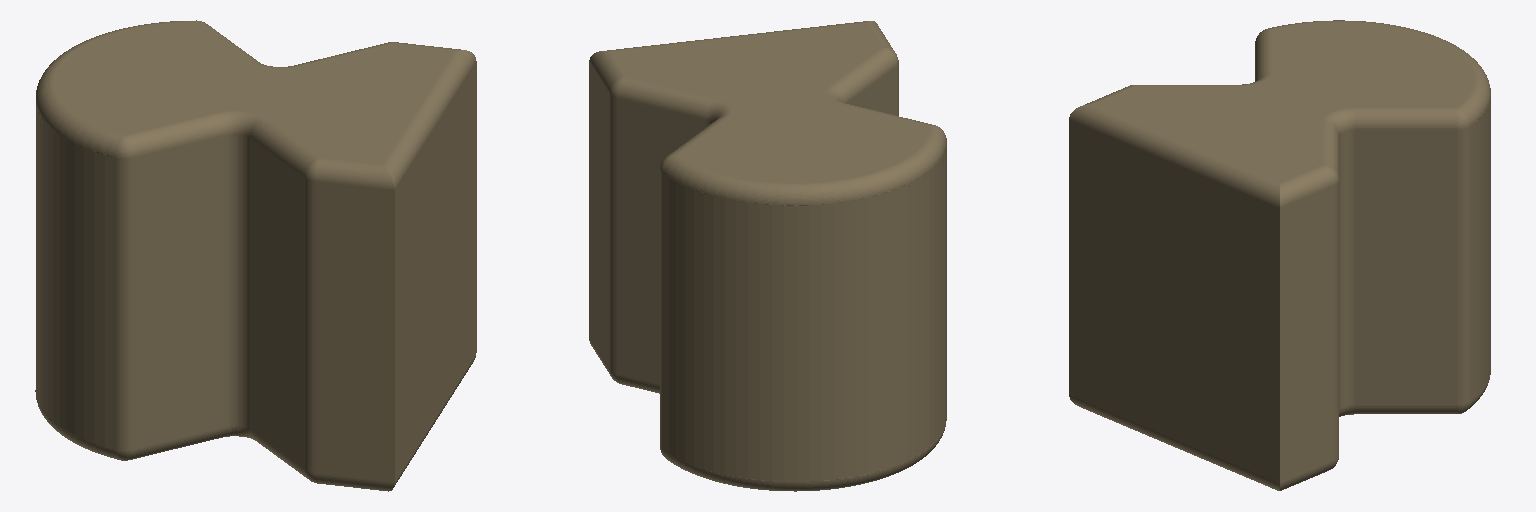
URDF robot description (cross_round_Top):
<?xml version="1.0"?>
<robot name="cross_round_Top">
  <link name="base_link">
    <visual>
      <origin xyz="0 0 0" rpy="0 0 0" />
      <geometry>
        <mesh filename="cross_round_Top.obj"/>      
      </geometry>
      <material name="tan">
        <color rgba="0.55 0.5 0.4 1"/>
      </material>
    </visual>
    <collision>
      <origin xyz="0 0 0" rpy="0 0 0" />
      <geometry>
        <mesh filename="cross_round_Top.obj"/>
      </geometry>
    </collision>
  </link>
</robot>

--- What the picture shows (computed from the rendered views, not written in the file) ---
3 views of the same robot in one strip: view 1: azimuth 30°, elevation 25°; view 2: azimuth 150°, elevation 25°; view 3: azimuth 270°, elevation 25° (orthographic).
Robot: cross_round_Top — 1 links, 0 joints (none); root link base_link; default pose: all joints at 0.
Visible links, largest first — view 1: base_link; view 2: base_link; view 3: base_link.
Link boxes in pixels (<box>): base_link: <box>35,20,476,491</box>; base_link: <box>589,21,946,491</box>; base_link: <box>1069,20,1490,490</box>.
Size in the robot's own frame: 31.81 by 31.81 by 25.4 metres.
1 mesh visuals loaded from 1 distinct referenced files (1 OBJ).
